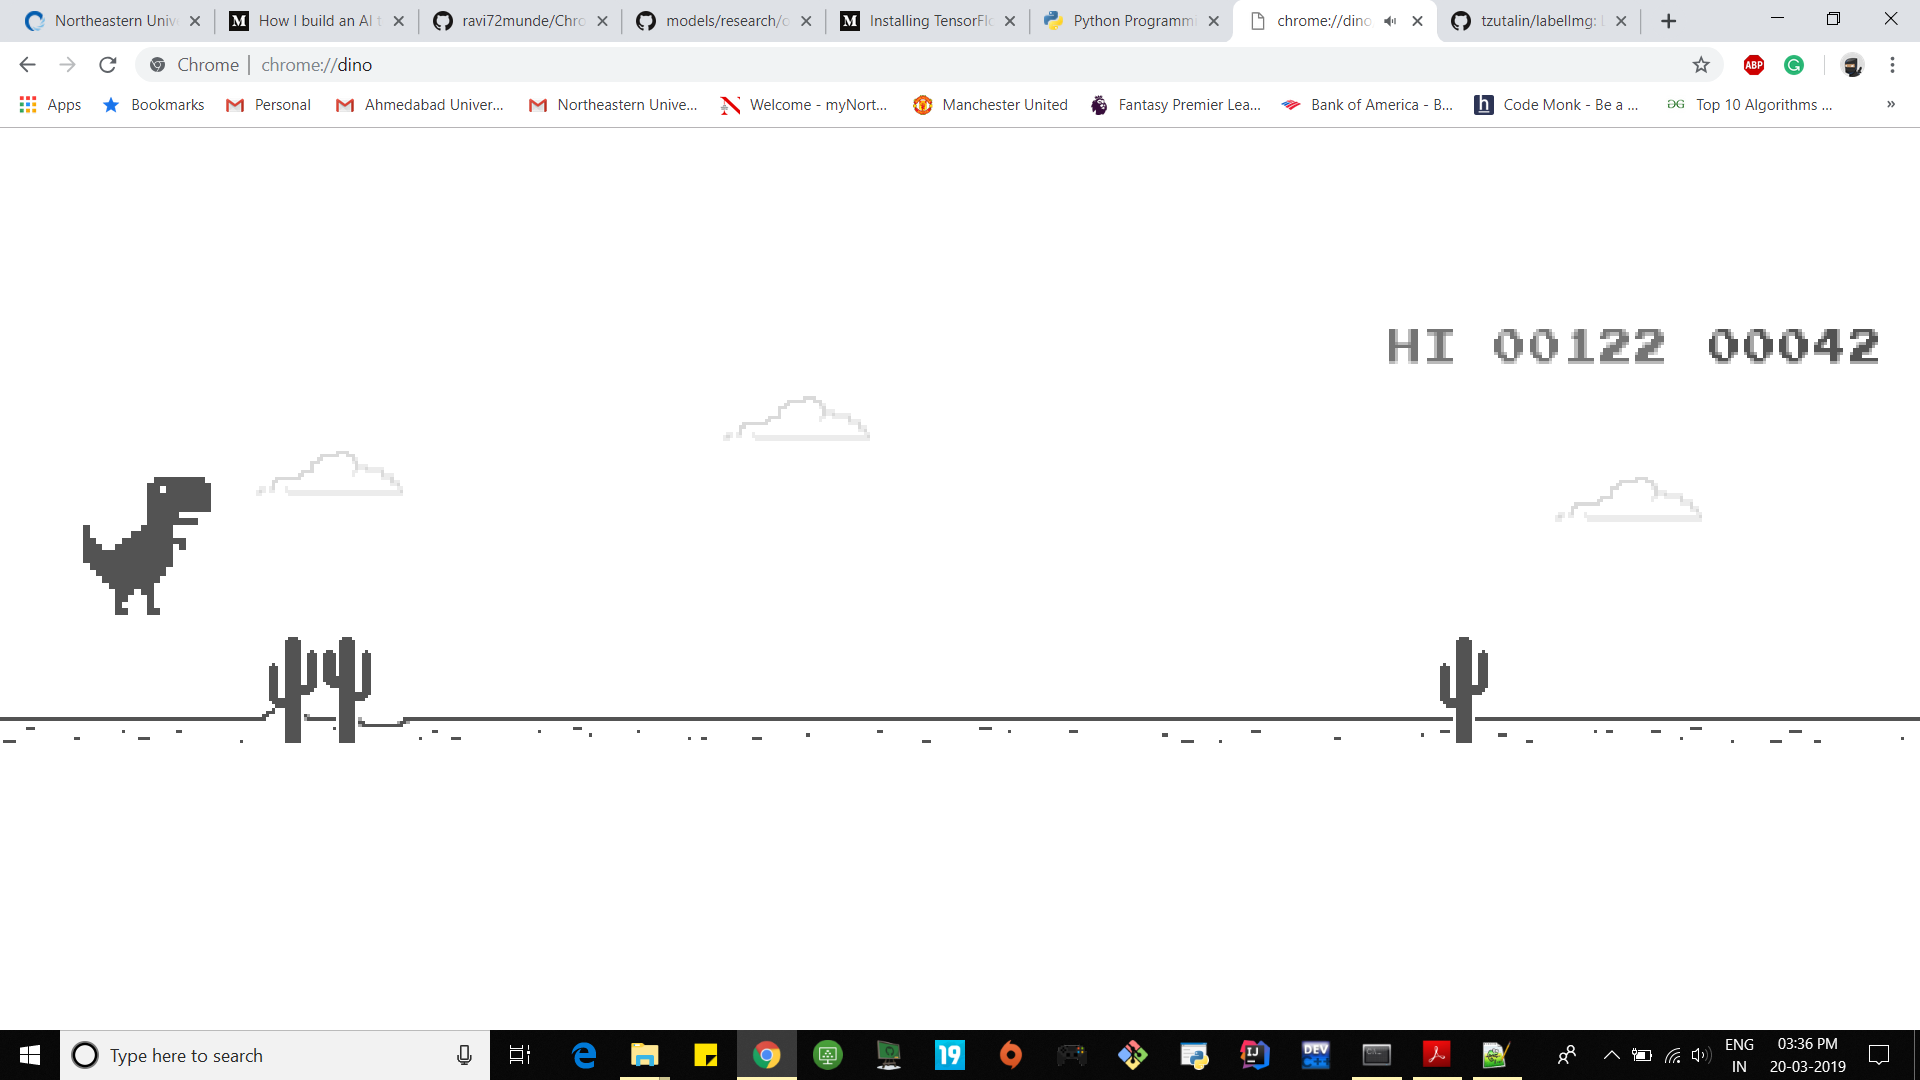cactus-2: (266, 637, 371, 745)
cactus-small: (1437, 637, 1489, 742)
dino: (82, 477, 212, 615)
